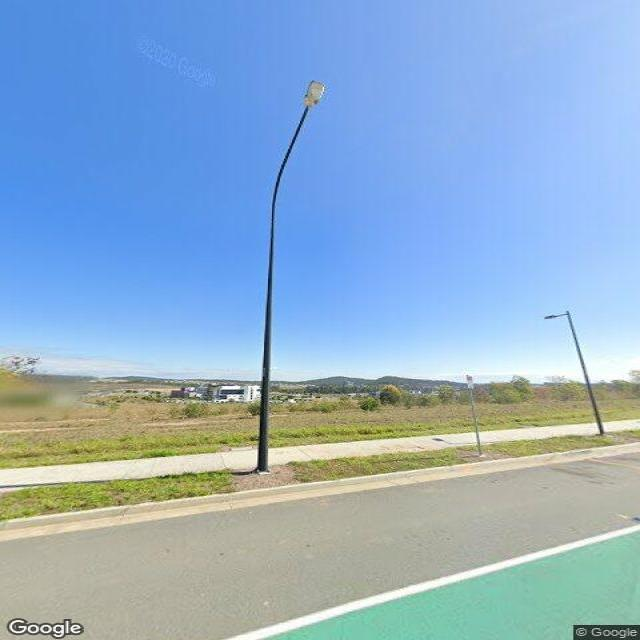steel-pole: (253, 203, 276, 474), (566, 309, 606, 436)
streetlight: (270, 80, 327, 212), (543, 313, 567, 320)
